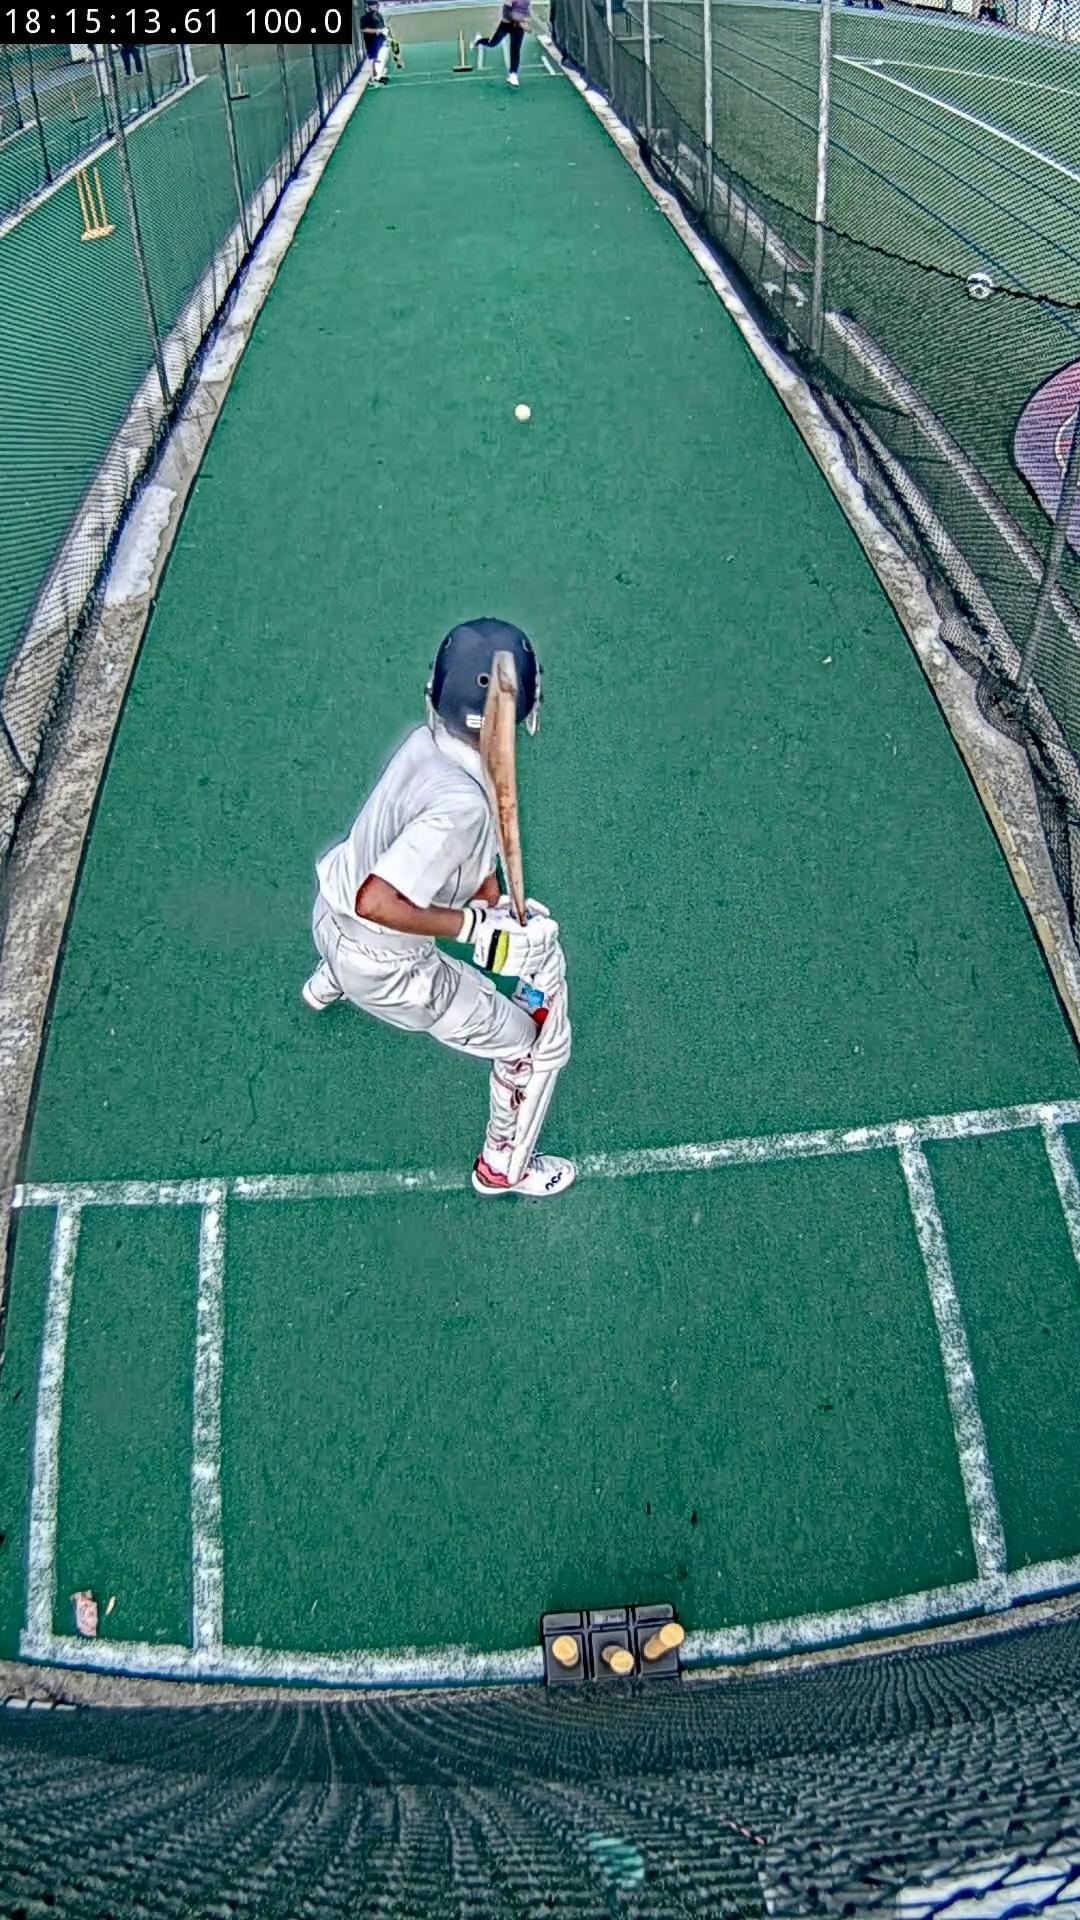ball: (514, 405, 533, 419)
bat: (480, 653, 525, 926)
gloves: (458, 897, 566, 994)
helmet: (427, 618, 541, 742)
pads: (506, 982, 574, 1185)
stumps: (541, 1605, 686, 1688)
